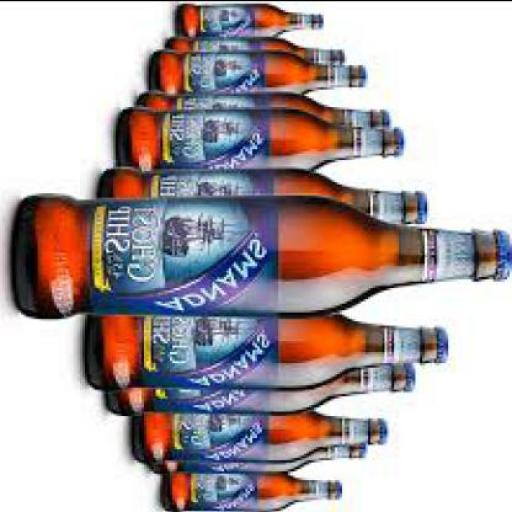glass: (12, 197, 502, 320), (90, 311, 437, 388), (121, 108, 396, 175), (102, 170, 420, 225), (108, 362, 409, 417), (142, 410, 382, 464), (149, 50, 361, 98), (142, 93, 385, 126), (149, 439, 363, 474), (162, 471, 338, 511), (168, 37, 338, 66), (184, 4, 316, 35)
metal: (497, 231, 511, 283), (439, 329, 451, 364), (410, 364, 423, 395), (394, 128, 406, 159), (382, 420, 392, 448), (358, 71, 371, 90), (422, 196, 430, 225), (363, 446, 371, 461), (318, 18, 326, 32), (340, 56, 350, 66), (387, 111, 392, 128), (342, 484, 347, 498)
